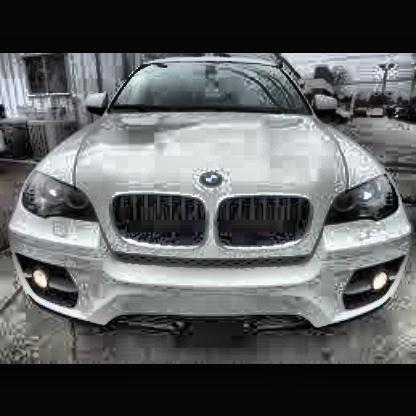BMW X6 SUV 2012: (12, 56, 416, 338)
